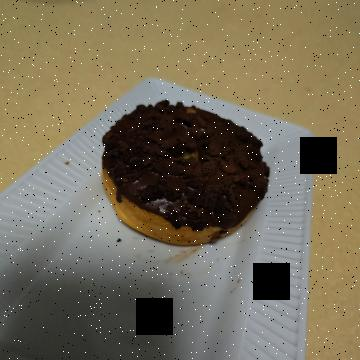doughnut: (93, 94, 263, 286)
